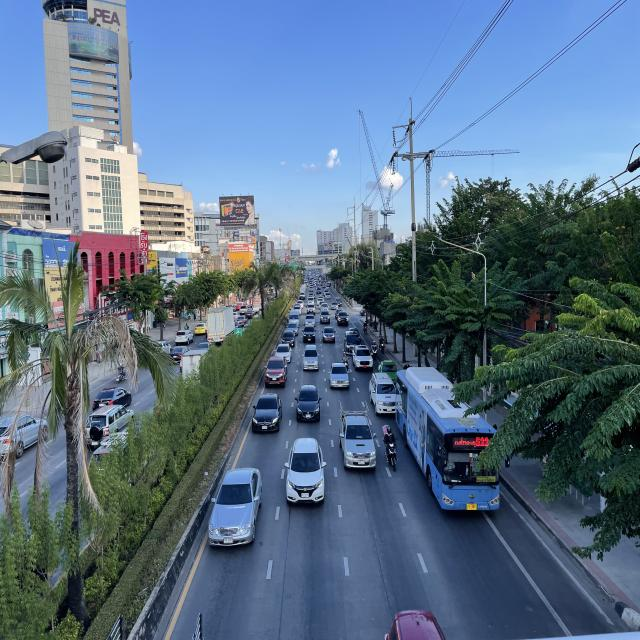bike: (381, 420, 400, 473), (378, 334, 386, 356), (342, 351, 349, 372), (371, 340, 378, 360), (363, 320, 368, 335)
bus: (395, 366, 502, 514)
car: (205, 465, 264, 549), (284, 436, 326, 507), (251, 392, 283, 433), (295, 384, 322, 423), (264, 356, 288, 388), (352, 344, 374, 372), (328, 362, 350, 389), (378, 360, 398, 387), (302, 344, 319, 372), (274, 343, 292, 363)
truck: (338, 399, 378, 472), (369, 371, 398, 416)
